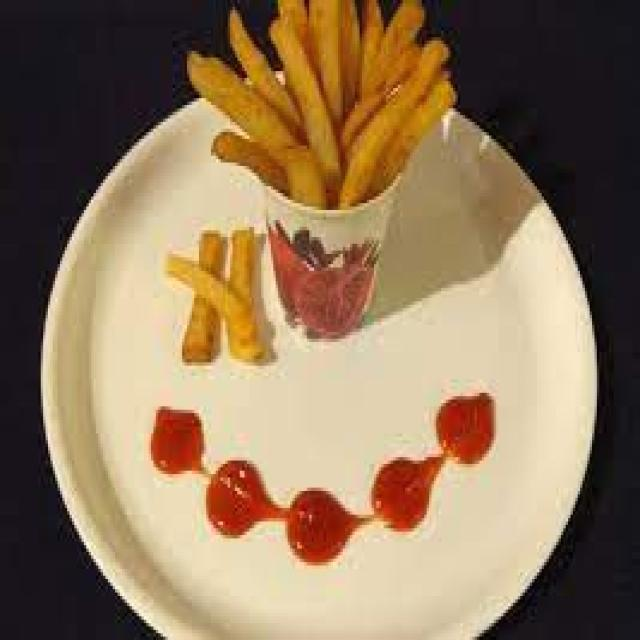fries: (193, 2, 450, 194), (168, 226, 272, 376)
